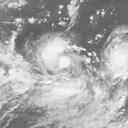cyclone: (36, 32, 80, 78), (103, 32, 126, 77)
